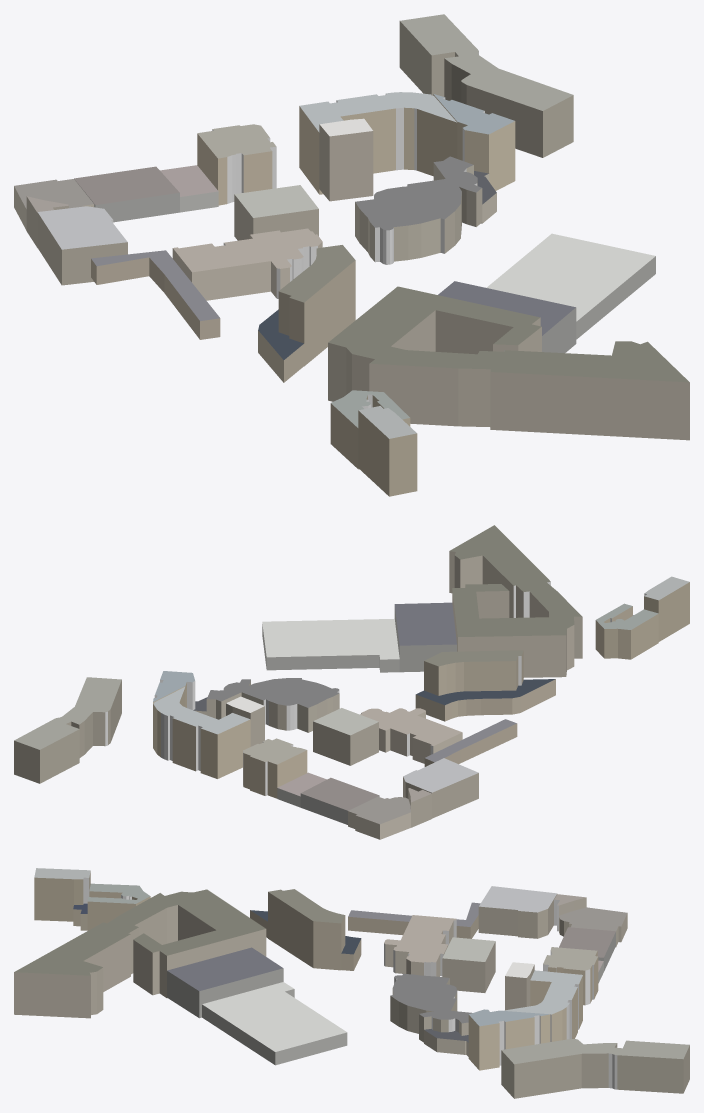
The picture shows the model from 3 angles, top to bottom: view 1: azimuth 30°, elevation 25°; view 2: azimuth 150°, elevation 25°; view 3: azimuth 270°, elevation 25°; orthographic projection. The views are drawn at different scales.
Parts seen in each view (by area): view 1: tuile; view 2: tuile; view 3: tuile.
Boxes of the visible parts, left/top/right/bottom form: tuile: left=14, top=14, right=689, bottom=496; tuile: left=14, top=525, right=689, bottom=839; tuile: left=14, top=868, right=689, bottom=1098.
Size of the model in its own units: 207 by 27.36 by 313.
